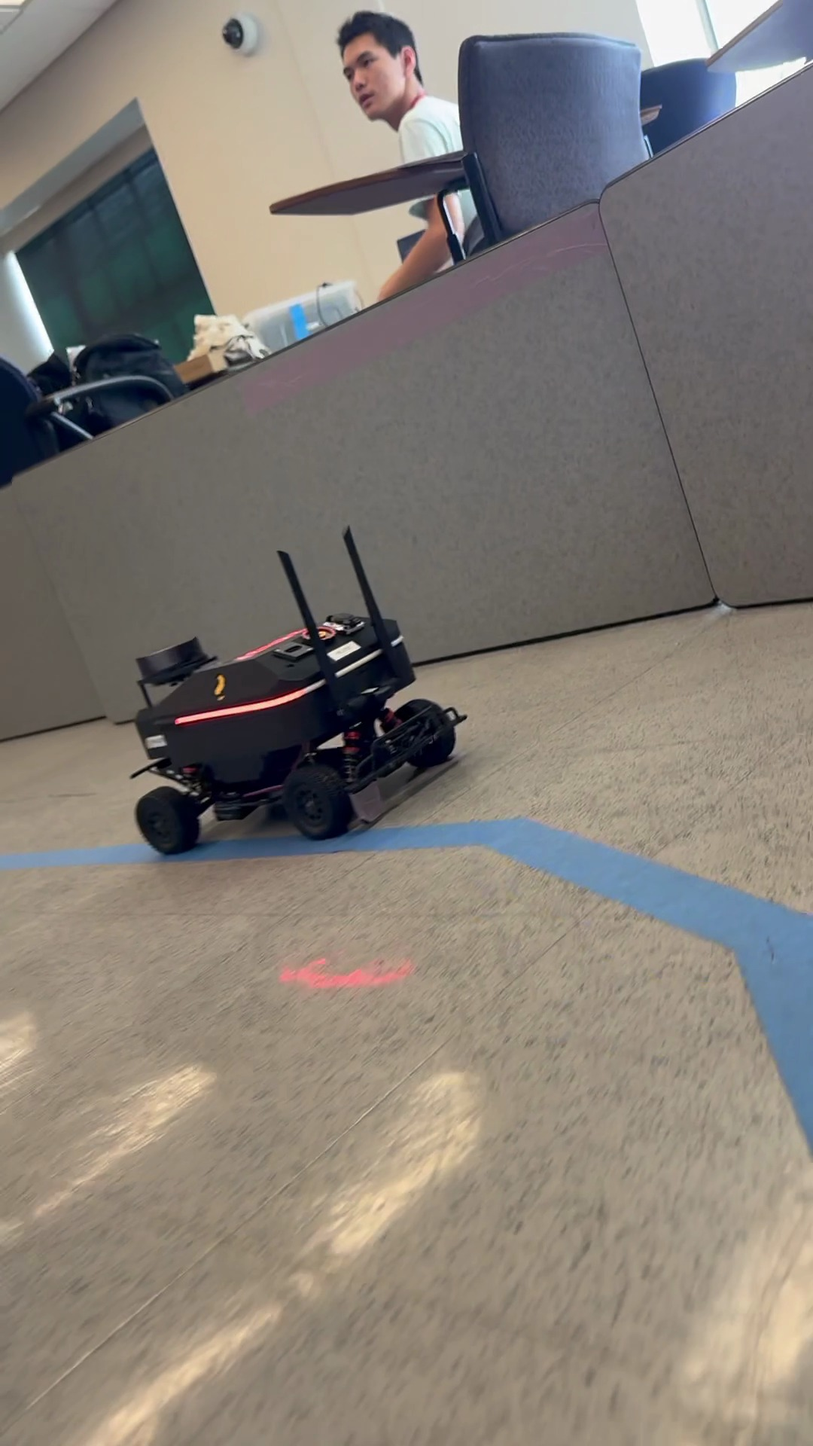racecar: (125, 527, 465, 857)
